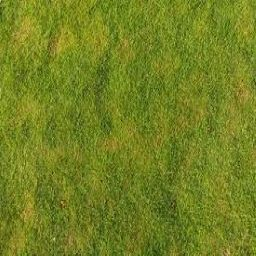grass: (3, 6, 247, 248)
